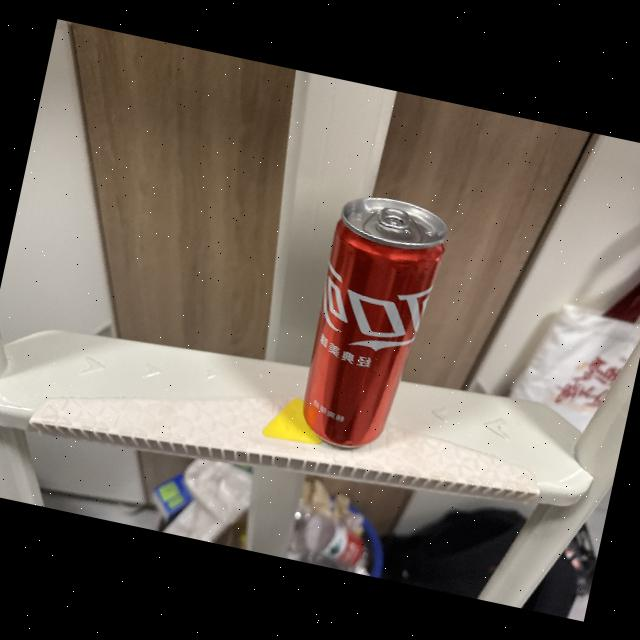Cola: (266, 177, 462, 472)
